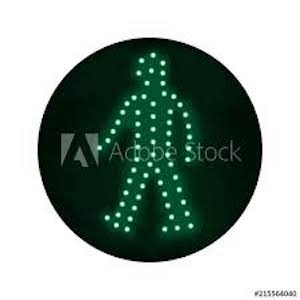green: (103, 47, 206, 236)
